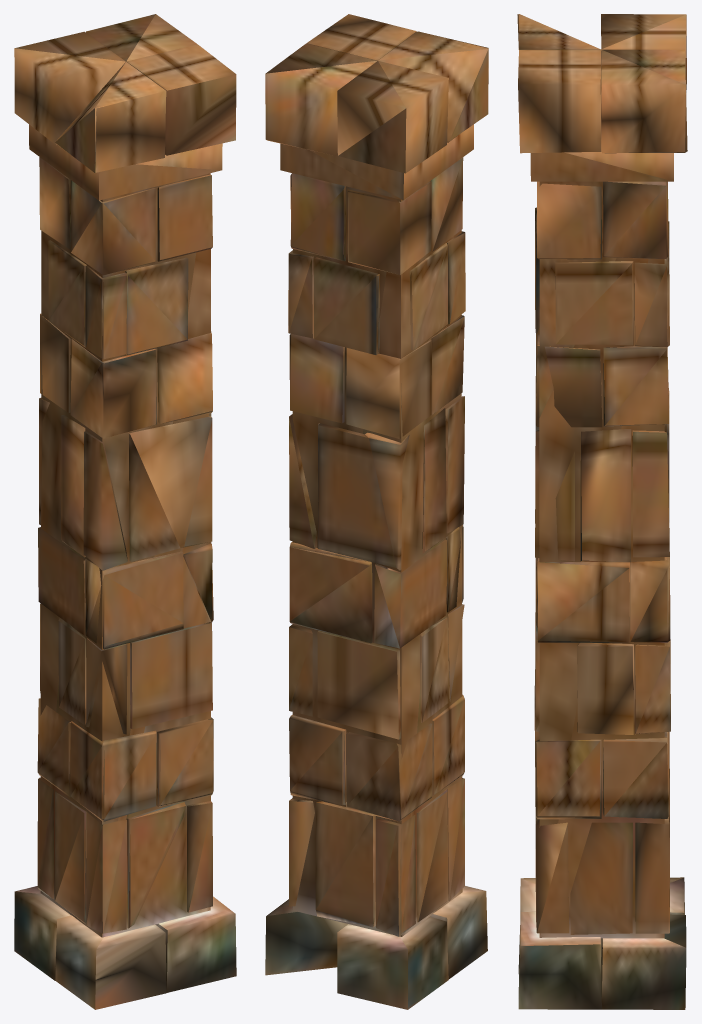
File: pillar.lod1.glb
The picture shows the model from 3 angles, left to right: view 1: azimuth 30°, elevation 25°; view 2: azimuth 150°, elevation 25°; view 3: azimuth 270°, elevation 25°; orthographic projection. The views are drawn at different scales.
Bounding box in the file's own units: 0.497 × 3 × 0.5.
Materials: 1 (1 with a texture image).
